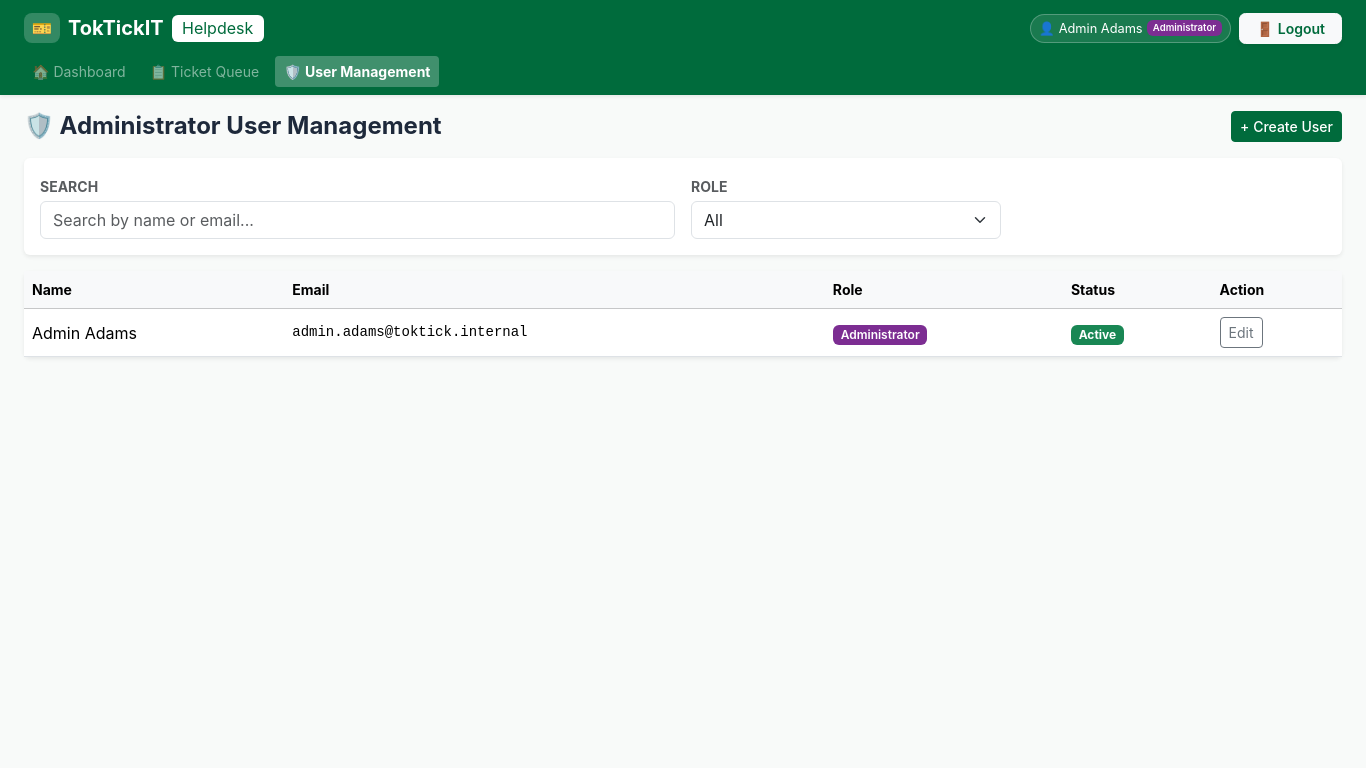
Test case: Administrator User Management (UI-08, UI-09) › UI-09a: self-deactivation attempt shows the inline blocking message from the server 403, not a generic failure
Expected: the text "Admin Adams" is shown, 1059,19 -> 1143,38
Click the button "Edit" at (1241, 333), box 1220,317 -> 1263,348
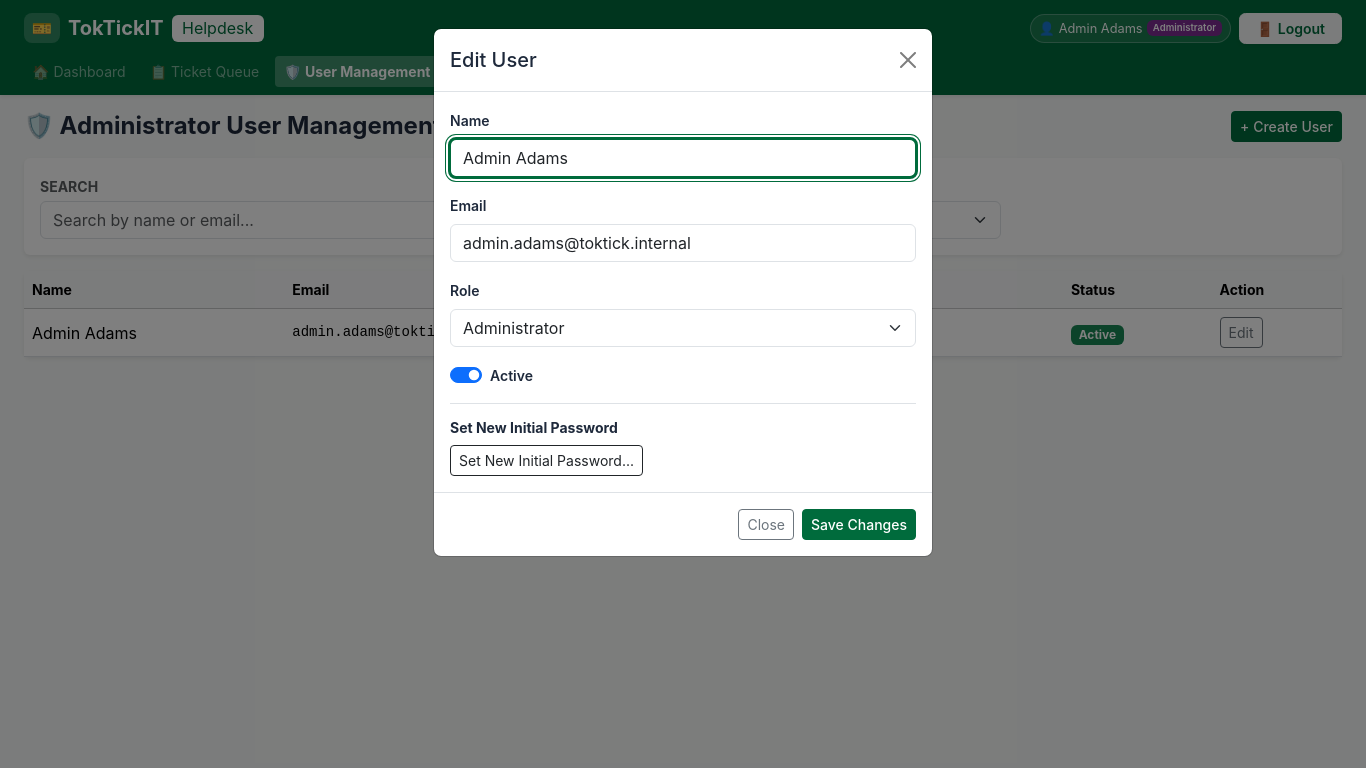
Click the checkbox labelled "Active" at (466, 375), box 450,367 -> 482,383
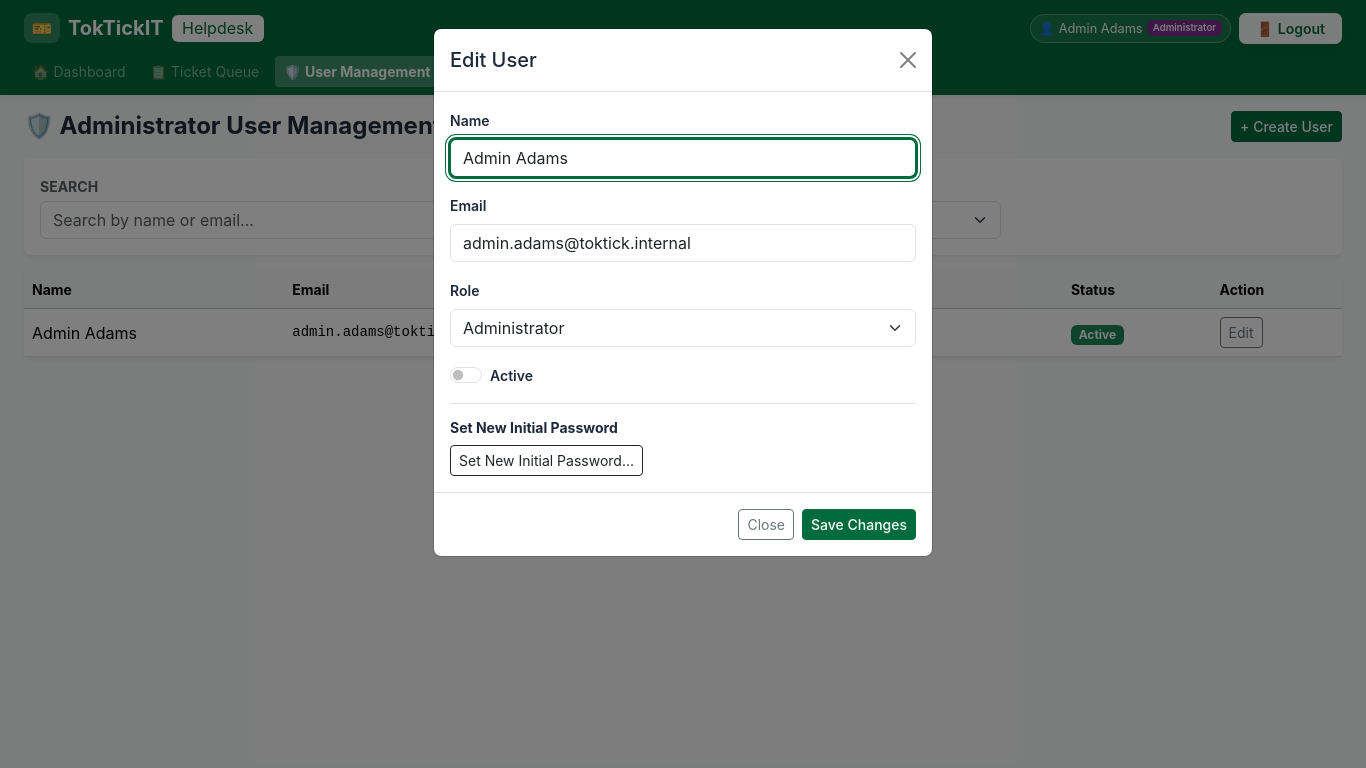
Click the button "Save Changes" at (859, 524), box 802,509 -> 916,540
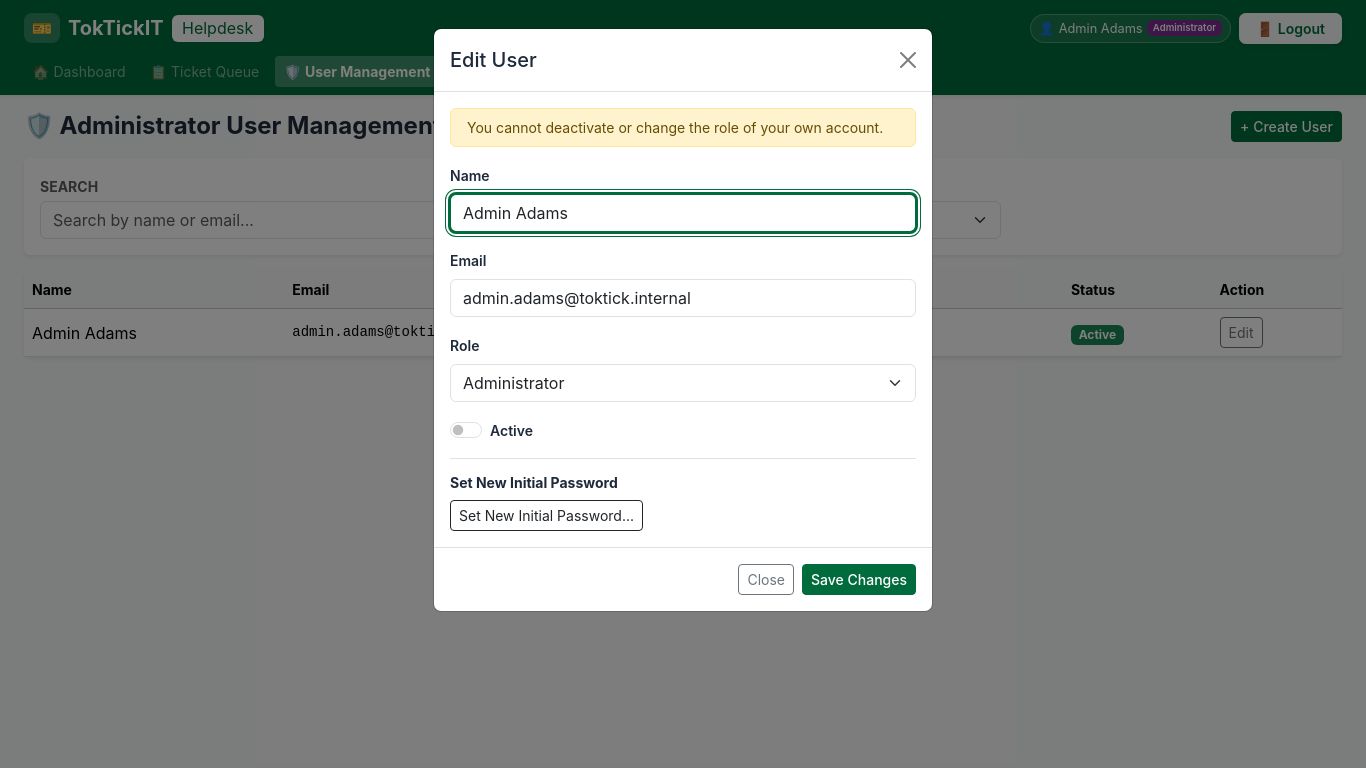
Expected: the text with test id "admin-safety-blocked-message" shows "cannot deactivate", 467,119 -> 883,136
